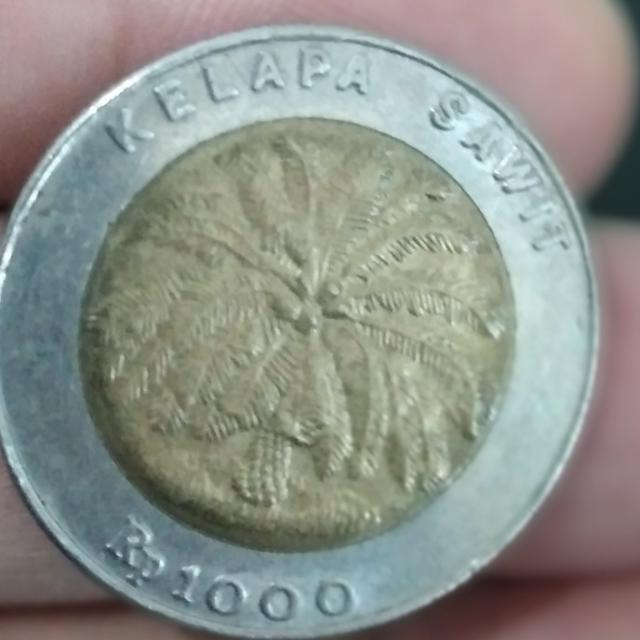1000-sawit: (0, 16, 604, 640)
